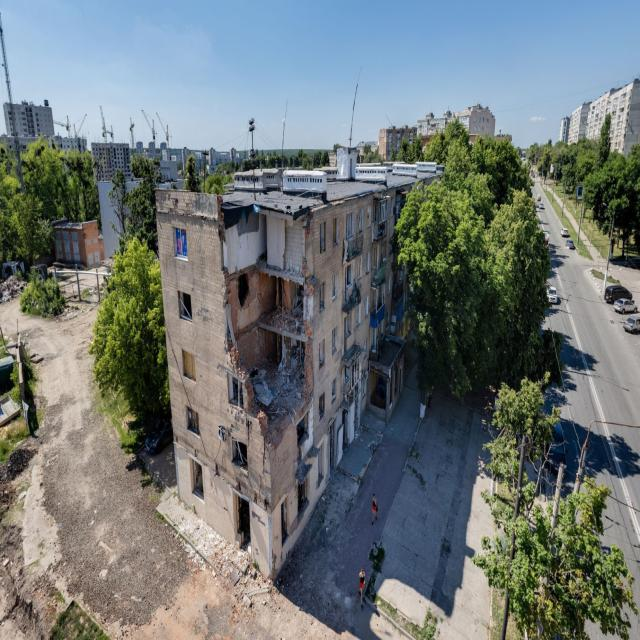broken_window: (341, 345, 361, 411), (234, 487, 251, 564), (190, 455, 204, 505), (228, 370, 244, 412), (231, 436, 247, 474), (173, 227, 188, 262), (370, 281, 385, 314), (182, 349, 196, 384), (178, 292, 193, 324), (186, 404, 199, 437), (344, 264, 352, 307), (318, 339, 326, 370), (319, 281, 325, 317), (379, 197, 387, 223), (319, 390, 325, 422), (332, 270, 337, 304), (332, 326, 337, 358), (357, 258, 362, 282)
building: (155, 183, 415, 586)
damage: (220, 198, 314, 448), (296, 457, 311, 517), (296, 411, 309, 467), (280, 495, 291, 552), (328, 417, 337, 478), (320, 220, 327, 255), (358, 204, 363, 233), (332, 376, 337, 405)
other: (0, 0, 640, 640), (4, 0, 640, 204), (396, 170, 640, 484)
roof: (155, 163, 445, 209)
